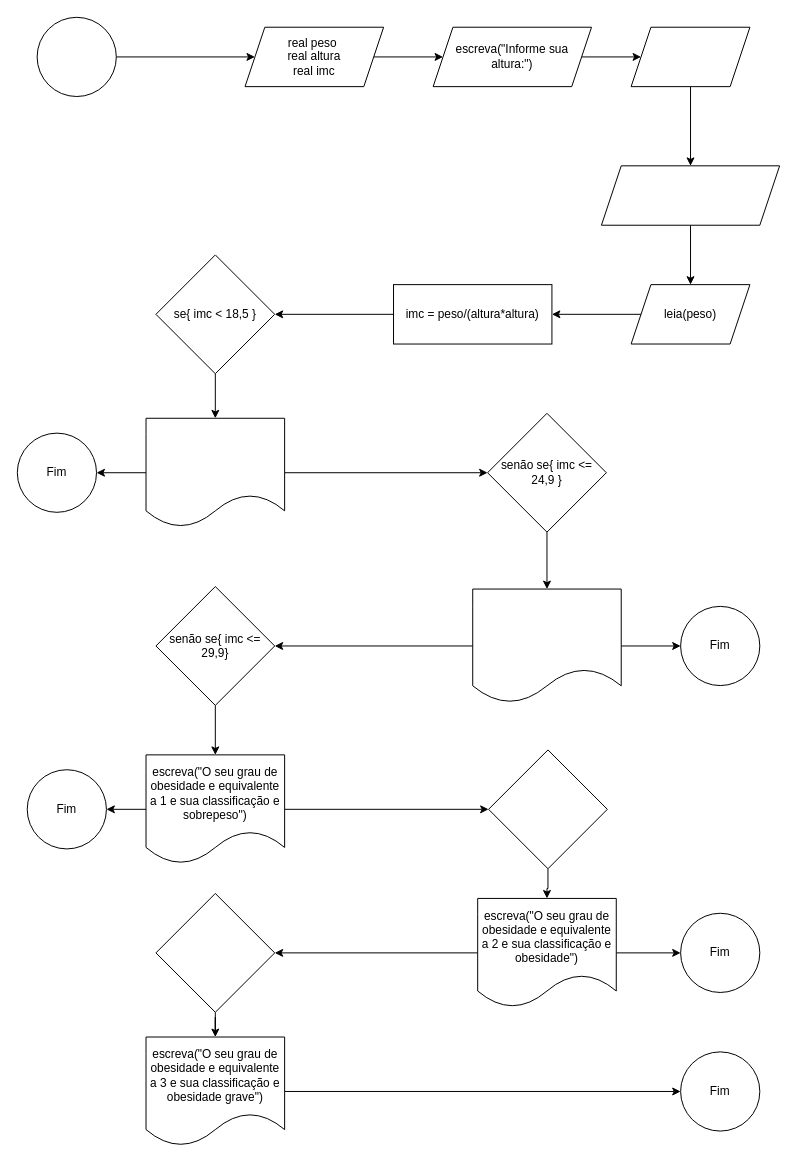
This 797x1163 diagram has some shape labels left out. Each missing label, with the centre of its shape:
escreva"O seu grau de obesidade e 0 e sua classificação e magreza"): [215,472]
escreva("Agora informe seu peso:"): [690,195]
escreva("O seu grau de obesidade e 0 e sua classificação e normal"): [546,645]
Inicio: [76,56]
leia(altura): [690,56]
senão se: [215,952]
senão se{ imc <= 39,9 }: [547,809]
